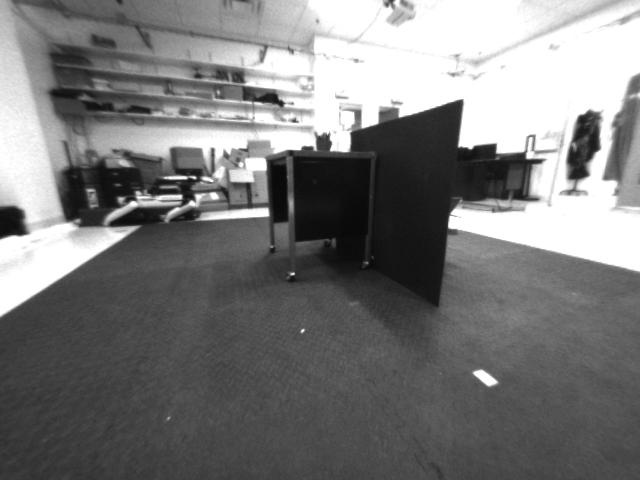dogtoy: (446, 225, 468, 243)
